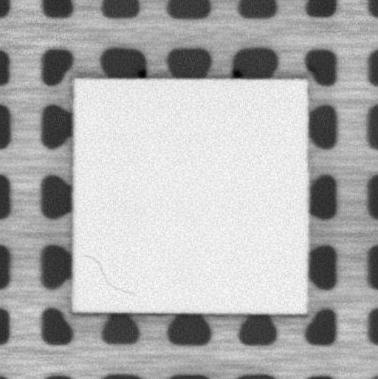DIE_CRACK: (83, 255, 131, 297)
